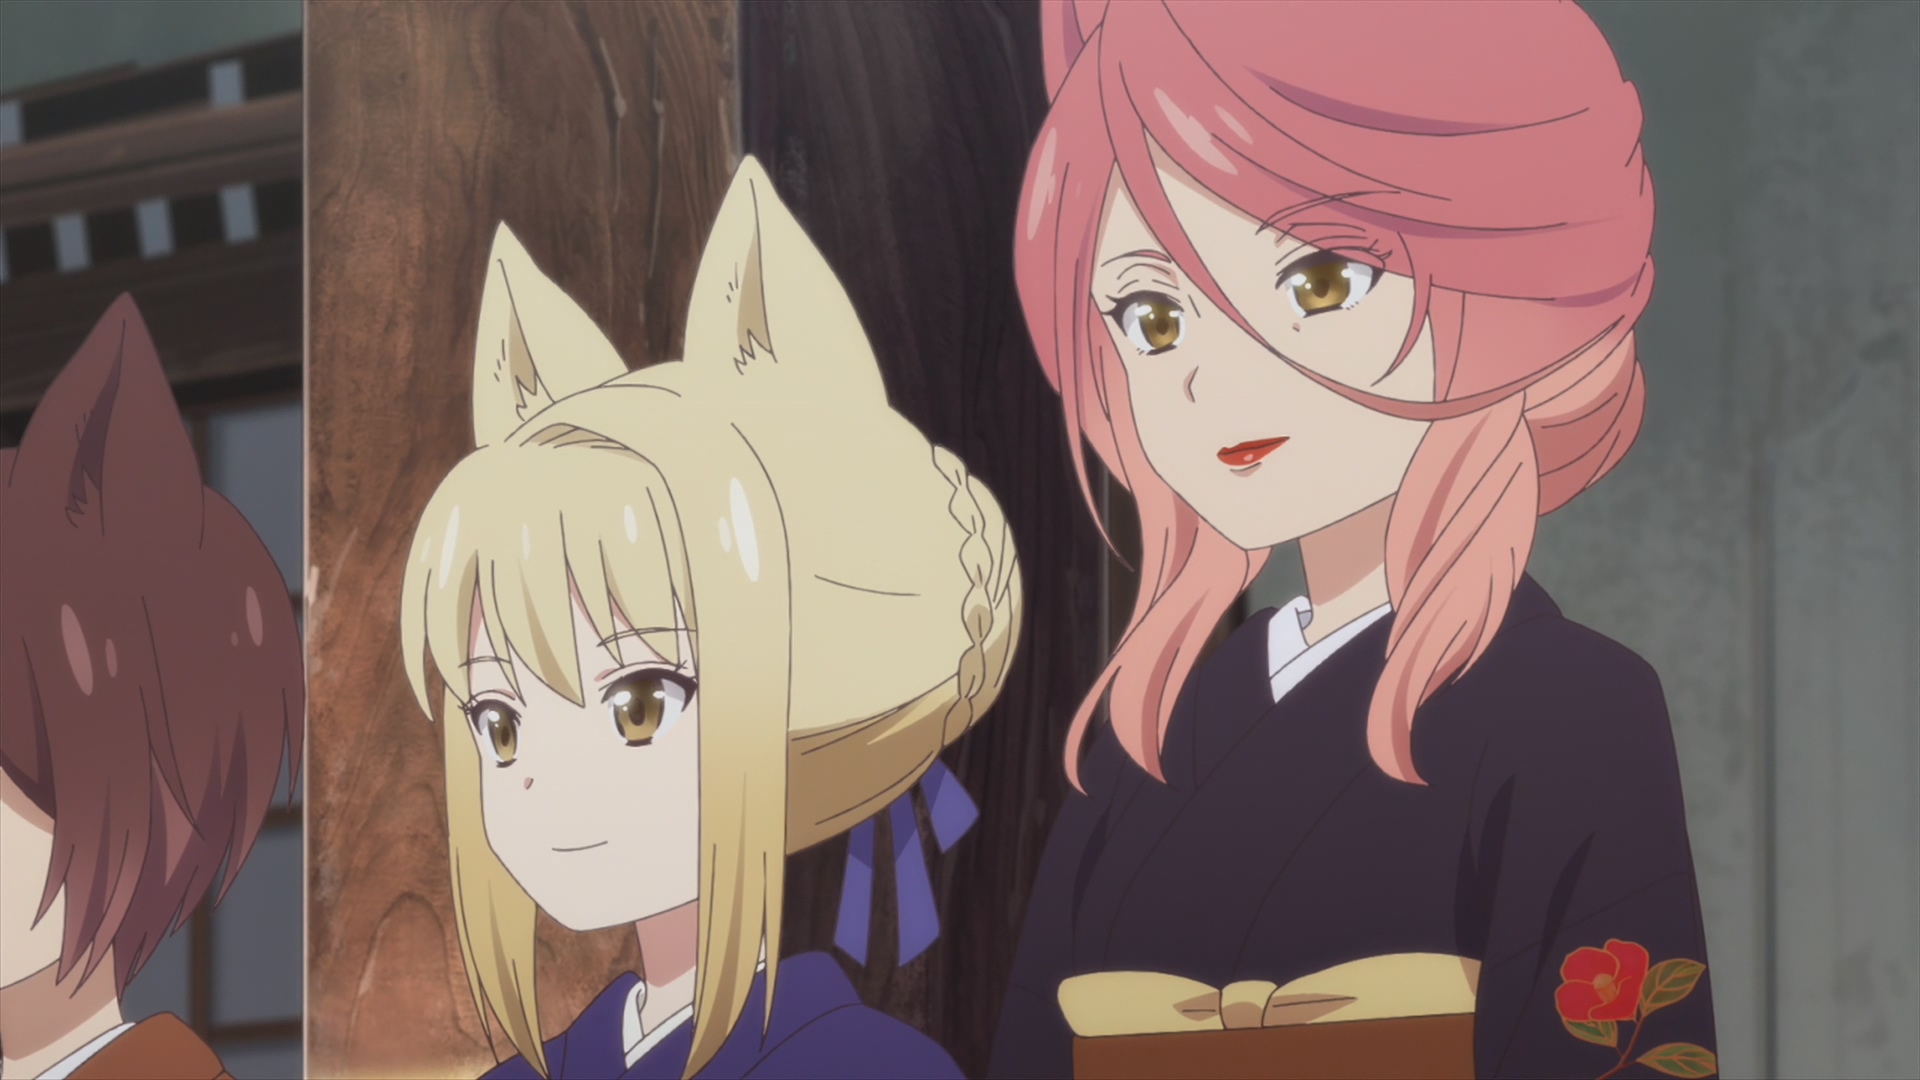枣: (1, 291, 305, 1080)
桐: (404, 152, 1023, 1080)
椿: (993, 1, 1720, 1080)
